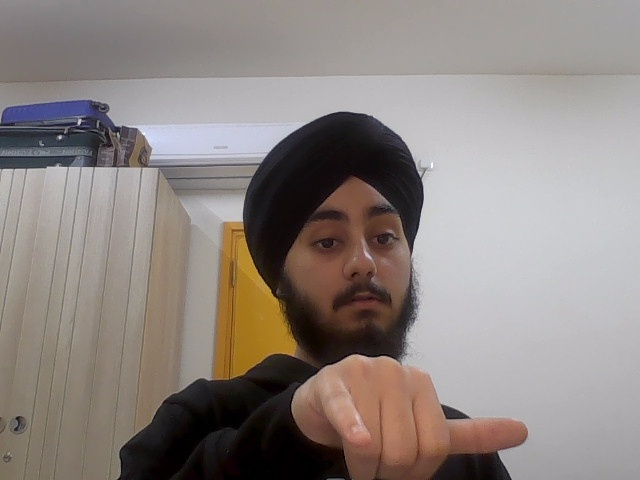Same: (299, 345, 544, 480)
